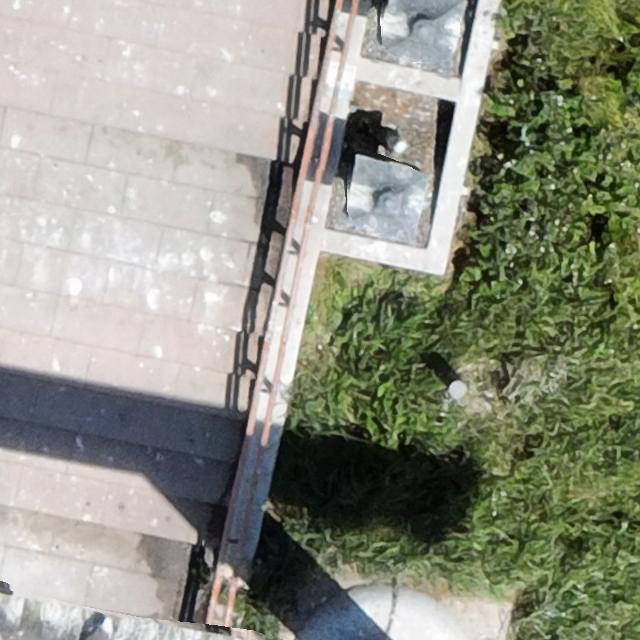umineko: (378, 128, 407, 152)
